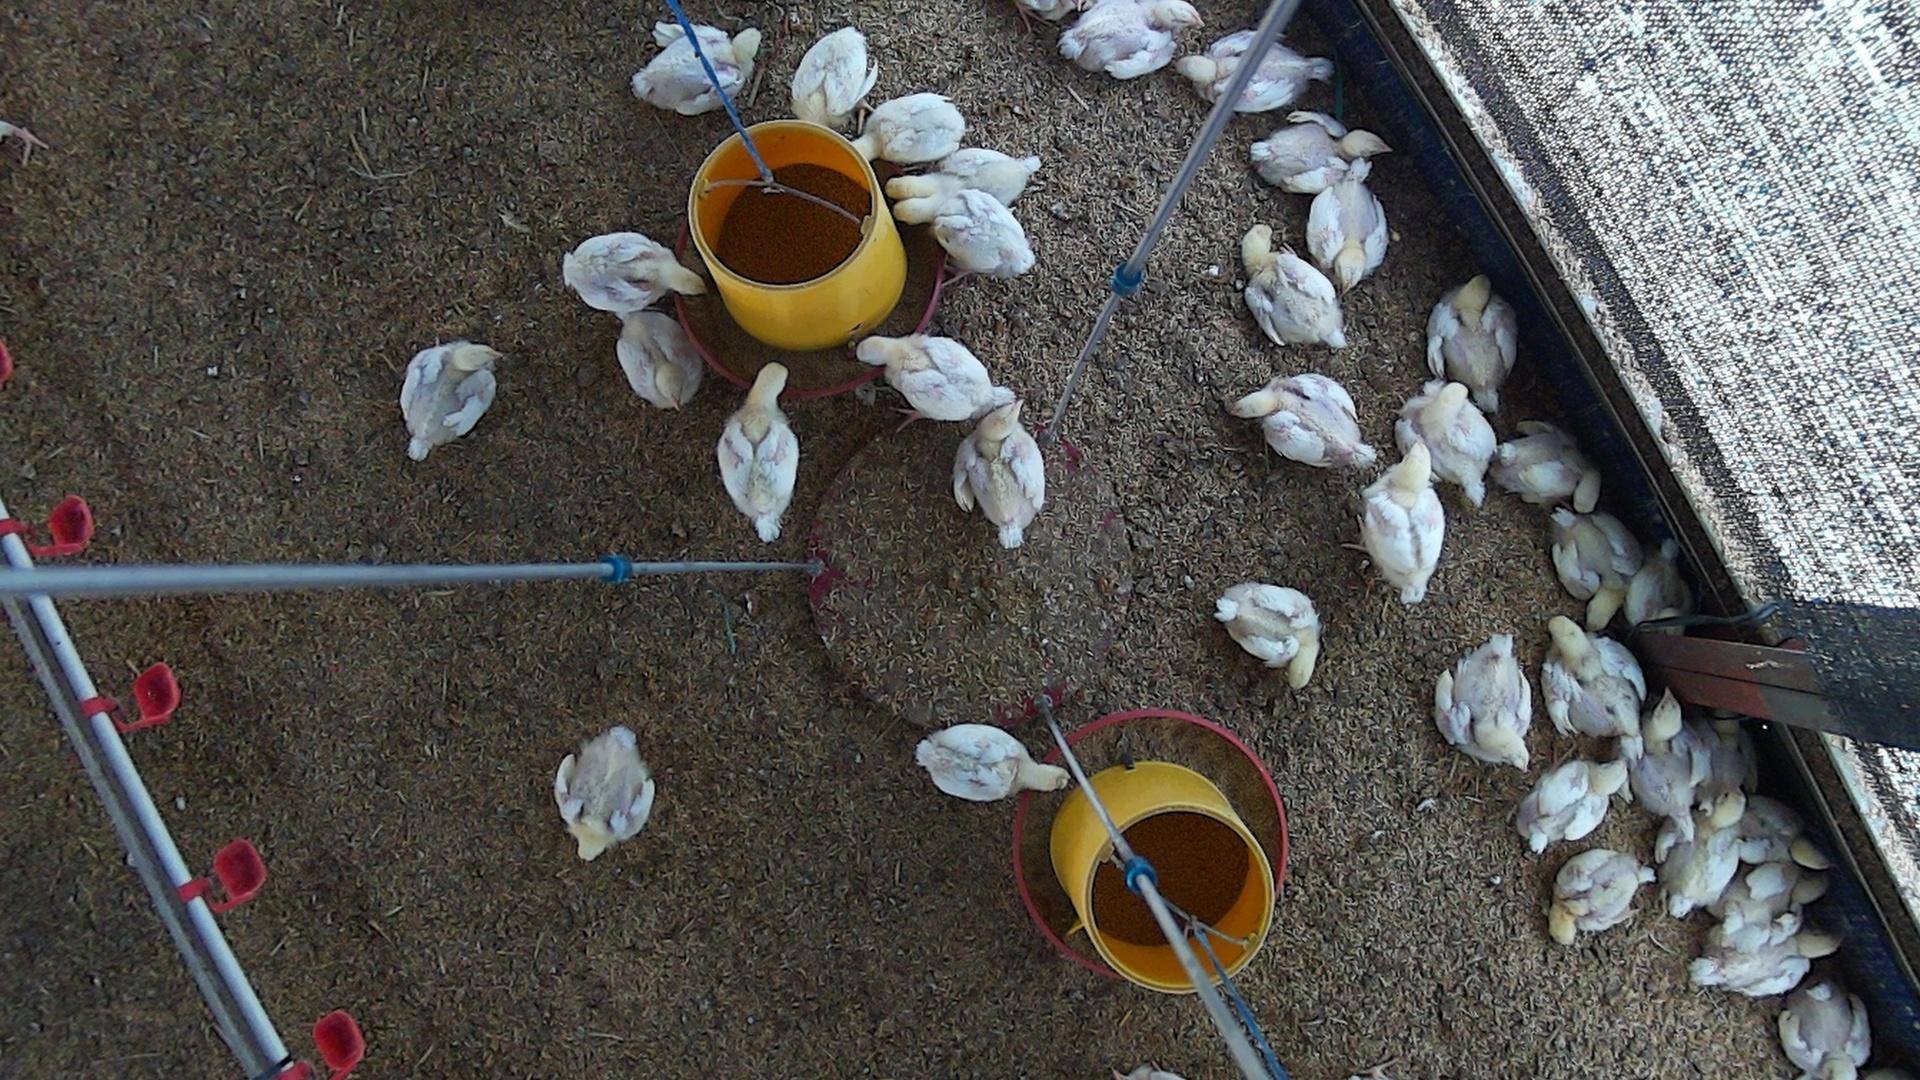ayam_broiler: (893, 167, 1035, 277), (717, 360, 798, 542), (952, 393, 1044, 550), (1361, 431, 1445, 603), (1232, 373, 1375, 469), (555, 724, 653, 860), (1240, 227, 1346, 349), (1435, 633, 1531, 769), (855, 332, 1004, 419), (1629, 686, 1700, 864), (1179, 9, 1309, 103), (1402, 381, 1498, 508), (1544, 621, 1643, 744), (1656, 786, 1747, 916), (563, 229, 700, 315), (915, 723, 1067, 799), (1428, 274, 1515, 406), (401, 342, 498, 459), (1215, 583, 1321, 687), (1251, 108, 1385, 191), (1060, 0, 1200, 76), (1688, 924, 1844, 993), (633, 21, 748, 112), (1519, 758, 1627, 853), (1551, 512, 1642, 621), (1307, 166, 1386, 289), (1552, 849, 1652, 942), (789, 25, 873, 135), (1497, 421, 1598, 506), (617, 310, 704, 409), (886, 145, 1040, 200), (1780, 984, 1869, 1080), (856, 91, 967, 166), (1705, 864, 1830, 923), (1739, 794, 1834, 870), (1626, 538, 1695, 637), (1700, 703, 1758, 807)
